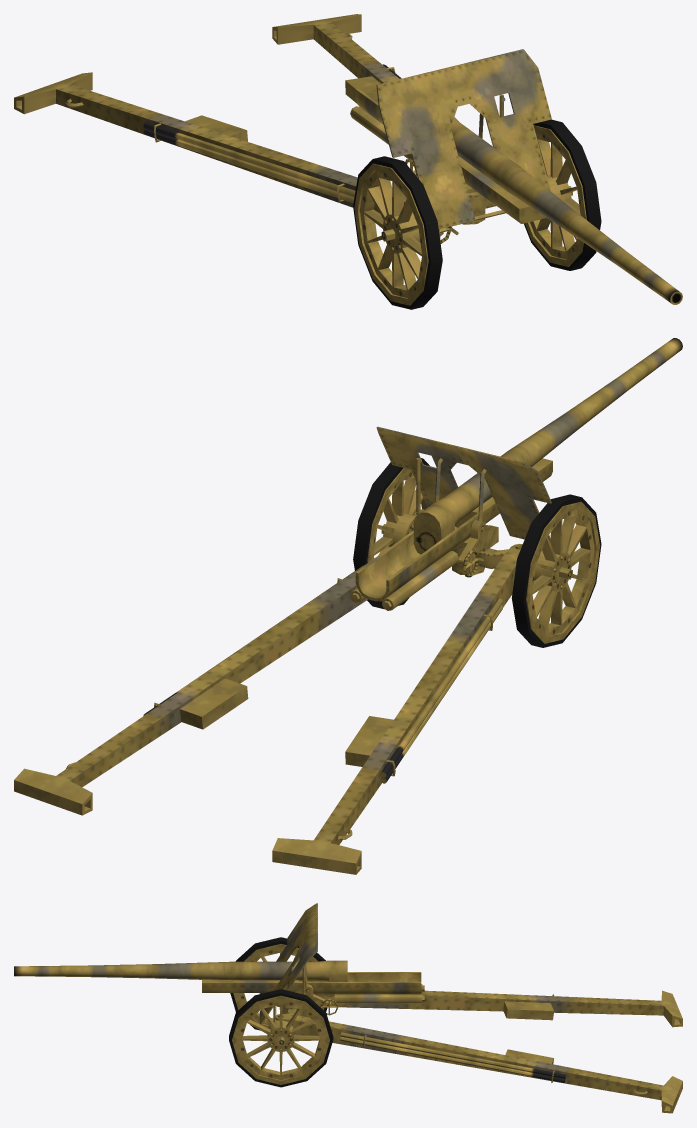
The model's file is JPNType92_10cm.dae.
3 views of the same model, one above another, from view 1: azimuth 30°, elevation 25°; view 2: azimuth 150°, elevation 25°; view 3: azimuth 270°, elevation 25° (orthographic). The views are drawn at different scales.
Visible parts, largest first — view 1: shield, wheels, trail1, barrel, trail2, sleeve, carriage; view 2: wheels, trail1, trail2, shield, barrel, sleeve, turret; view 3: trail2, wheels, trail1, barrel, sleeve, shield, turret.
Boxes of the visible parts, <box> form: shield: <box>376,49,551,229</box>; wheels: <box>353,119,601,309</box>; trail1: <box>14,72,443,236</box>; barrel: <box>450,117,682,304</box>; trail2: <box>272,14,401,103</box>; sleeve: <box>350,81,546,223</box>; carriage: <box>438,192,505,243</box>; wheels: <box>353,458,601,647</box>; trail1: <box>272,544,520,874</box>; trail2: <box>14,555,378,815</box>; shield: <box>376,426,551,542</box>; barrel: <box>413,338,682,554</box>; sleeve: <box>350,458,552,610</box>; turret: <box>416,458,498,577</box>; trail2: <box>275,1014,682,1113</box>; wheels: <box>229,937,333,1087</box>; trail1: <box>276,990,682,1027</box>; barrel: <box>14,960,347,981</box>; sleeve: <box>202,972,424,1002</box>; shield: <box>259,903,317,1024</box>; turret: <box>285,965,338,1015</box>.
Bounding box in the file's own units: 29.15 × 73.63 × 16.05.
